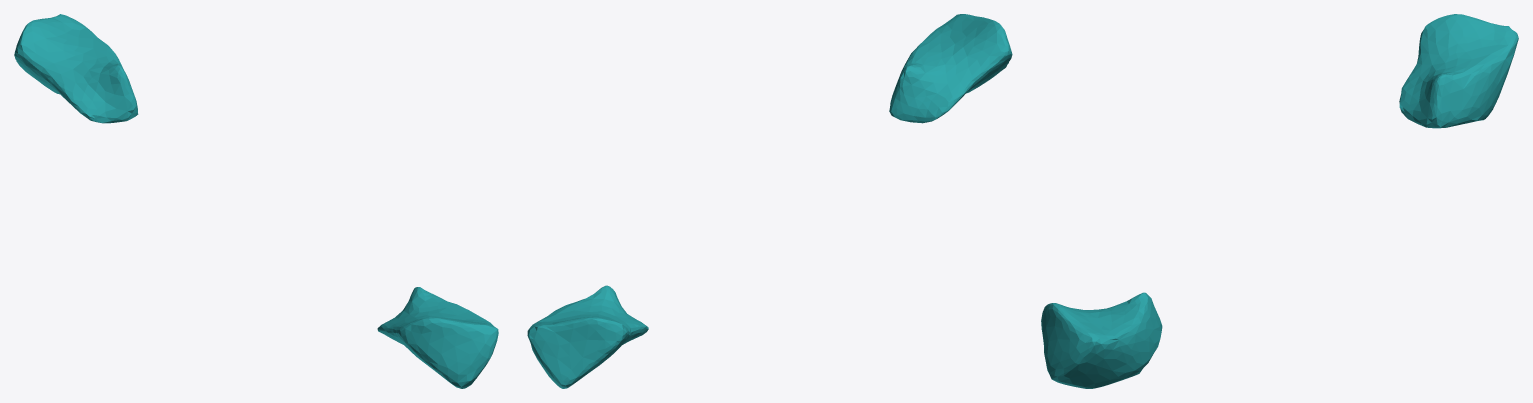
3 renders of one model, left to right at view 1: azimuth 30°, elevation 25°; view 2: azimuth 150°, elevation 25°; view 3: azimuth 330°, elevation 25°, orthographic.
Visible parts, largest first — view 1: 425.obj; view 2: 425.obj; view 3: 425.obj.
Part boxes in pixels (x1,y1,x2,y2): 425.obj: (14, 14, 498, 388); 425.obj: (527, 14, 1012, 388); 425.obj: (1041, 14, 1518, 388).
Size of the model in its own units: 872 by 758 by 7807.
